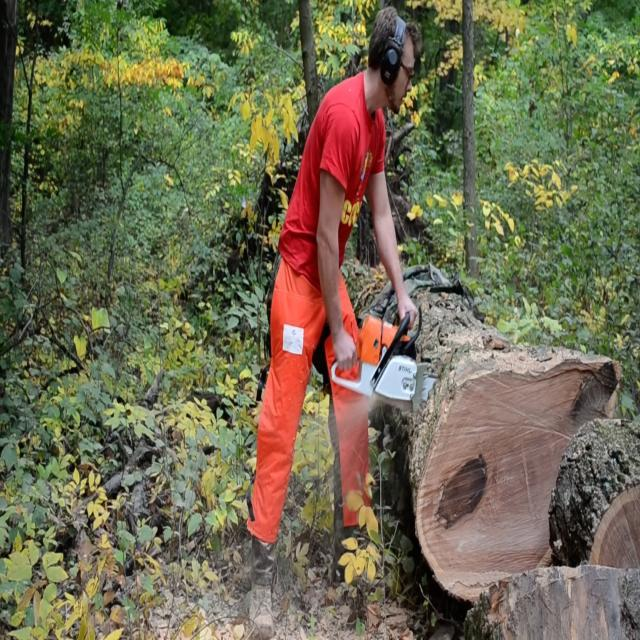Chainsaw: (325, 287, 455, 424)
